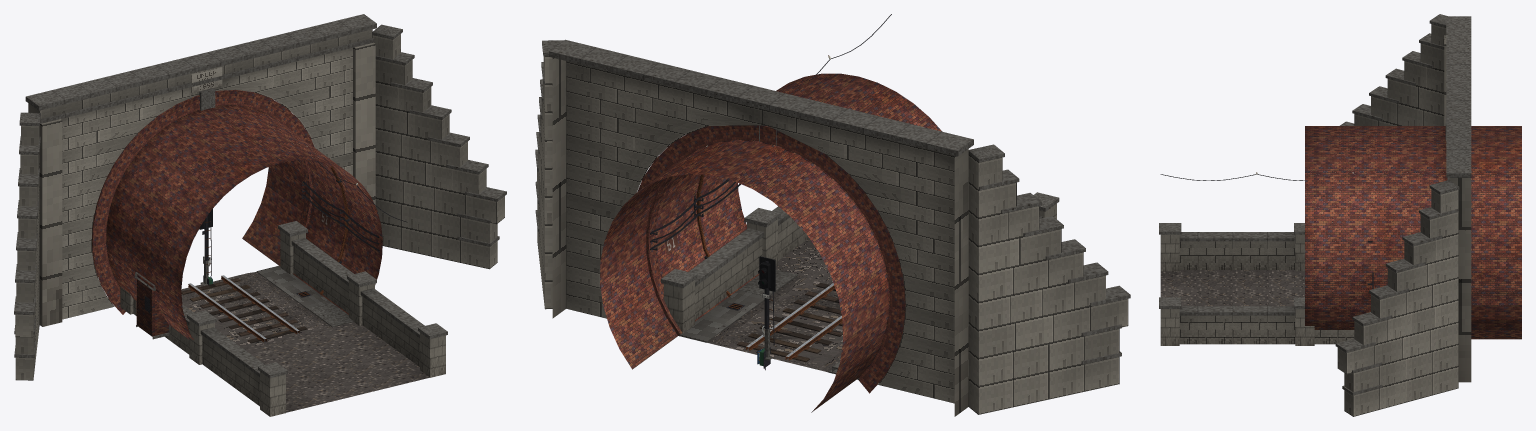
File: rp_tunnel.glb
3 renders of one model, left to right at view 1: azimuth 30°, elevation 25°; view 2: azimuth 150°, elevation 25°; view 3: azimuth 270°, elevation 25°, orthographic. The views are drawn at different scales.
Parts seen in each view (by area): view 1: tp_portal, tk_lining, tk_niche, tk_track, tk_track_far, tk_cables, tk_lining_b; view 2: tp_portal, tk_lining, tk_track_far, tk_track, tk_niche, tk_signal, tk_cables, tk_lining_b; view 3: tp_portal, tk_lining, tk_niche.
Part boxes in pixels (x1,y1,x2,y2): tp_portal: (14, 14, 506, 416); tk_lining: (106, 105, 382, 340); tk_niche: (107, 123, 365, 339); tk_track: (181, 271, 353, 343); tk_track_far: (181, 266, 345, 348); tk_cables: (301, 181, 379, 250); tk_lining_b: (319, 166, 349, 295); tp_portal: (535, 39, 1130, 416); tk_lining: (646, 73, 941, 376); tk_track_far: (679, 272, 858, 378); tk_track: (679, 269, 859, 379); tk_niche: (676, 88, 893, 377); tk_signal: (758, 256, 775, 360); tk_cables: (650, 179, 740, 250); tk_lining_b: (665, 174, 730, 296); tp_portal: (1159, 14, 1521, 416); tk_lining: (1305, 126, 1447, 329); tk_niche: (1337, 126, 1401, 329).
Size of the model in its own units: 22.49 by 10.14 by 15.06.
4 materials, 2 textured.
